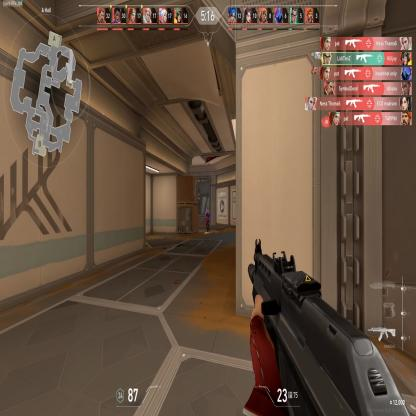enemy: (203, 208, 210, 232)
